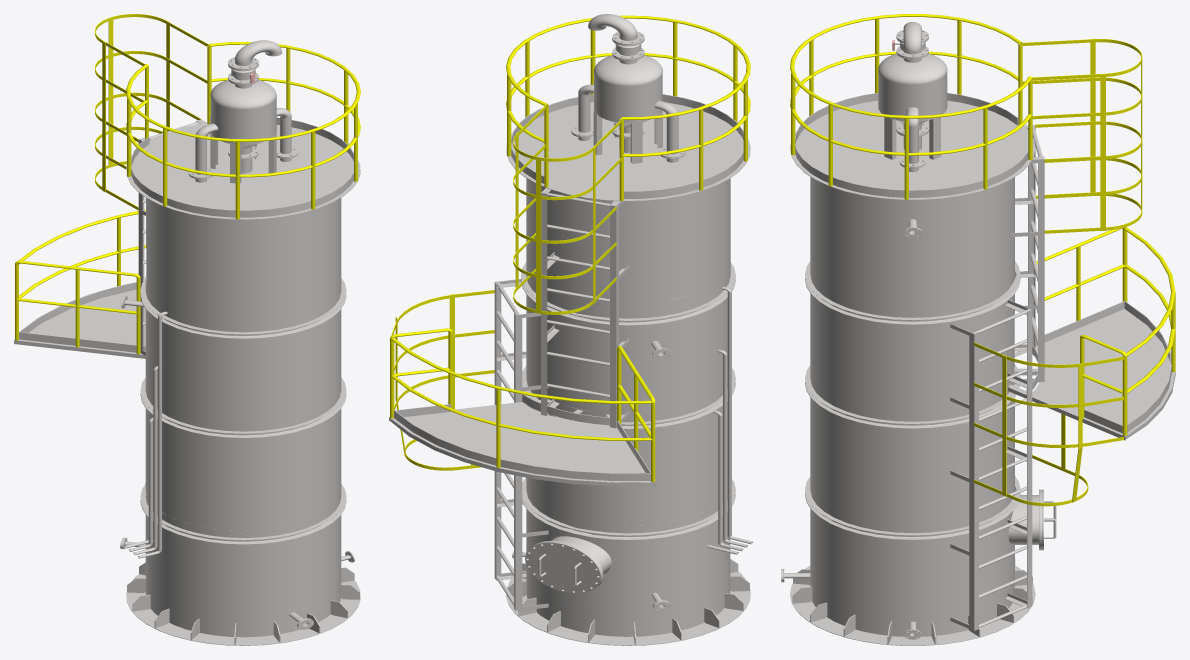
Rendered from before.glb.
The picture shows the model from 3 angles, left to right: view 1: azimuth 30°, elevation 25°; view 2: azimuth 150°, elevation 25°; view 3: azimuth 270°, elevation 25°; orthographic projection. The views are drawn at different scales.
Parts seen in each view (by area): view 1: 5mm筒体-1, 5mm筒体-2, 6mm筒体-2, 6mm筒体-1, 顶盖-1, 爬梯下-1, 顶部护栏-1, 水封罐-1, 护笼-1, 取样管-1, 底板-1, 槽钢加强圈-3 (+4 smaller); view 2: 爬梯下-1, 5mm筒体-1, 5mm筒体-2, 6mm筒体-1, 6mm筒体-2, 顶盖-1, 顶部护栏-1, 水封罐-1, 爬梯上-1, 护笼-1, 人孔-1, 取样管-1 (+5 smaller); view 3: 爬梯下-1, 5mm筒体-2, 5mm筒体-1, 6mm筒体-2, 6mm筒体-1, 顶盖-1, 顶部护栏-1, 水封罐-1, 护笼-1, 爬梯上-1, 底板-1, 槽钢加强圈-3 (+4 smaller).
Boxes of the visible parts, x1=… form: 5mm筒体-1: x1=145, y1=275, x2=341, y2=424; 5mm筒体-2: x1=146, y1=198, x2=341, y2=317; 6mm筒体-2: x1=145, y1=384, x2=341, y2=530; 6mm筒体-1: x1=145, y1=490, x2=341, y2=637; 顶盖-1: x1=126, y1=123, x2=360, y2=219; 爬梯下-1: x1=14, y1=209, x2=146, y2=358; 顶部护栏-1: x1=126, y1=41, x2=360, y2=219; 水封罐-1: x1=188, y1=80, x2=298, y2=183; 护笼-1: x1=95, y1=14, x2=209, y2=210; 取样管-1: x1=124, y1=311, x2=167, y2=558; 底板-1: x1=126, y1=574, x2=360, y2=645; 槽钢加强圈-3: x1=140, y1=278, x2=346, y2=338; 爬梯下-1: x1=389, y1=279, x2=655, y2=611; 5mm筒体-1: x1=526, y1=261, x2=730, y2=414; 5mm筒体-2: x1=526, y1=178, x2=730, y2=303; 6mm筒体-1: x1=526, y1=483, x2=730, y2=636; 6mm筒体-2: x1=526, y1=372, x2=727, y2=525; 顶盖-1: x1=506, y1=102, x2=750, y2=201; 顶部护栏-1: x1=506, y1=15, x2=750, y2=200; 水封罐-1: x1=571, y1=55, x2=685, y2=163; 爬梯上-1: x1=541, y1=188, x2=629, y2=428; 护笼-1: x1=513, y1=105, x2=621, y2=314; 人孔-1: x1=525, y1=536, x2=611, y2=593; 取样管-1: x1=707, y1=286, x2=752, y2=554; 爬梯下-1: x1=950, y1=227, x2=1175, y2=630; 5mm筒体-2: x1=810, y1=177, x2=1014, y2=302; 5mm筒体-1: x1=810, y1=260, x2=1014, y2=414; 6mm筒体-2: x1=810, y1=368, x2=1014, y2=525; 6mm筒体-1: x1=810, y1=483, x2=1014, y2=636; 顶盖-1: x1=790, y1=100, x2=1035, y2=200; 顶部护栏-1: x1=790, y1=14, x2=1032, y2=199; 水封罐-1: x1=878, y1=53, x2=947, y2=167; 护笼-1: x1=1020, y1=38, x2=1142, y2=233; 爬梯上-1: x1=1011, y1=125, x2=1044, y2=383; 底板-1: x1=790, y1=565, x2=1035, y2=645; 槽钢加强圈-3: x1=805, y1=261, x2=1020, y2=324.
Size of the model in its own units: 3.63 by 6.99 by 4.33.
